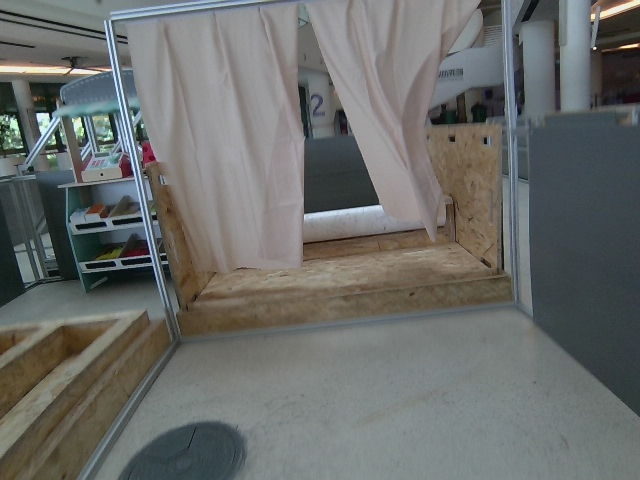curtain: (109, 5, 467, 288)
